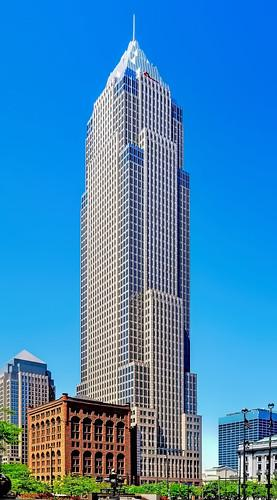building: (72, 36, 205, 493)
